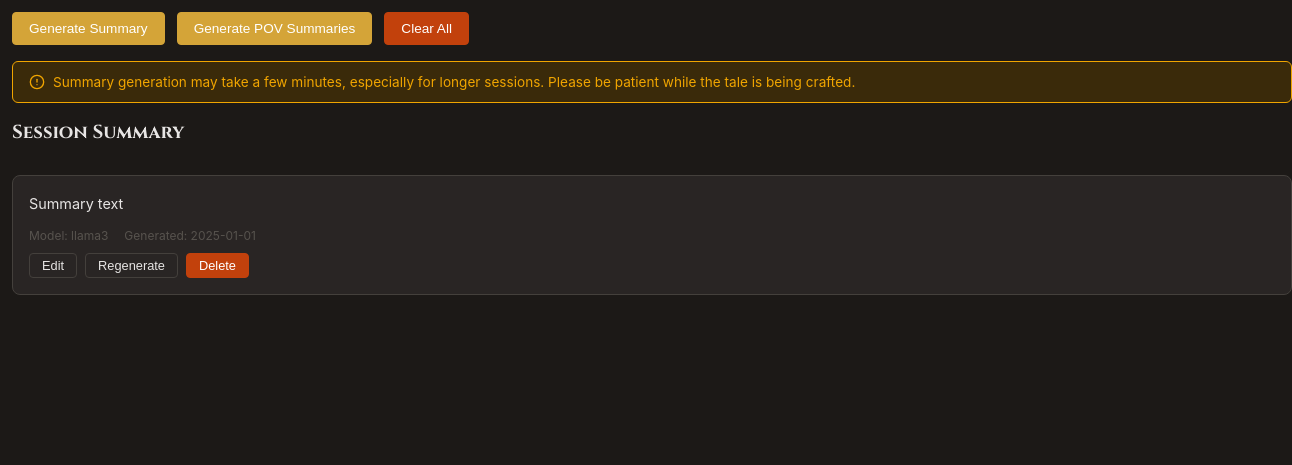
Scenario: SummarySection › enters edit mode when Edit button is clicked
Click the button "Edit": {"x": 53, "y": 265} [29,253,77,278]
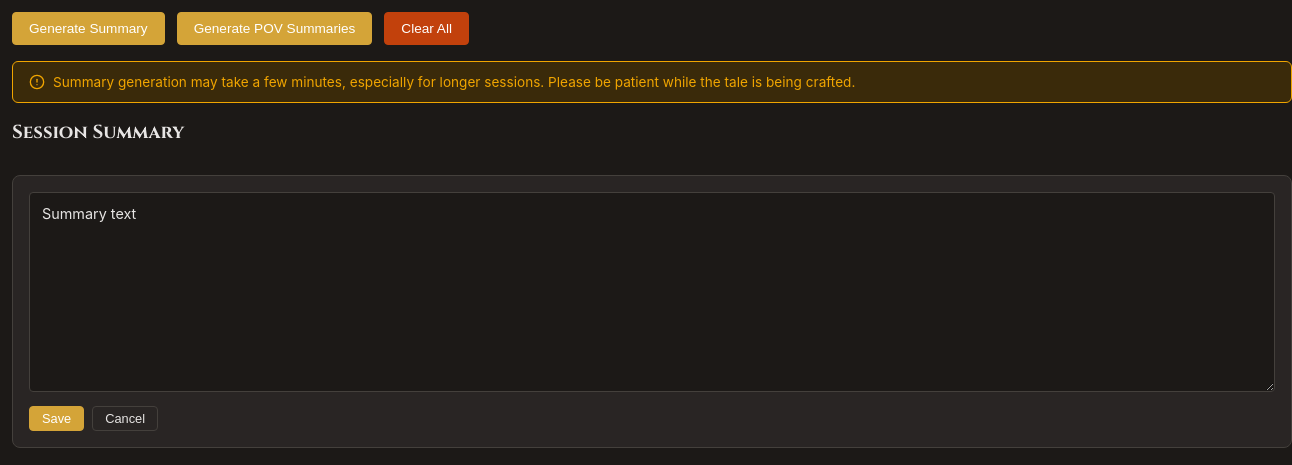
Expected: the button "Save" is shown, [29,406,84,431]
